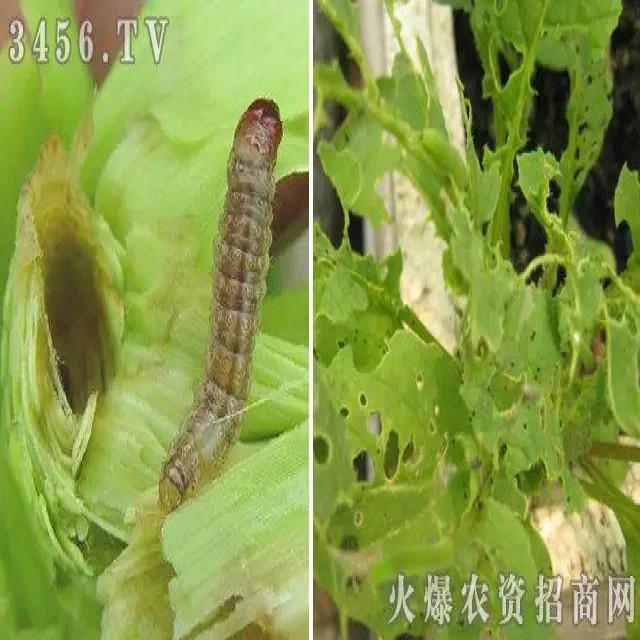BeetArmyWorm-Larva-: (154, 83, 296, 524)
